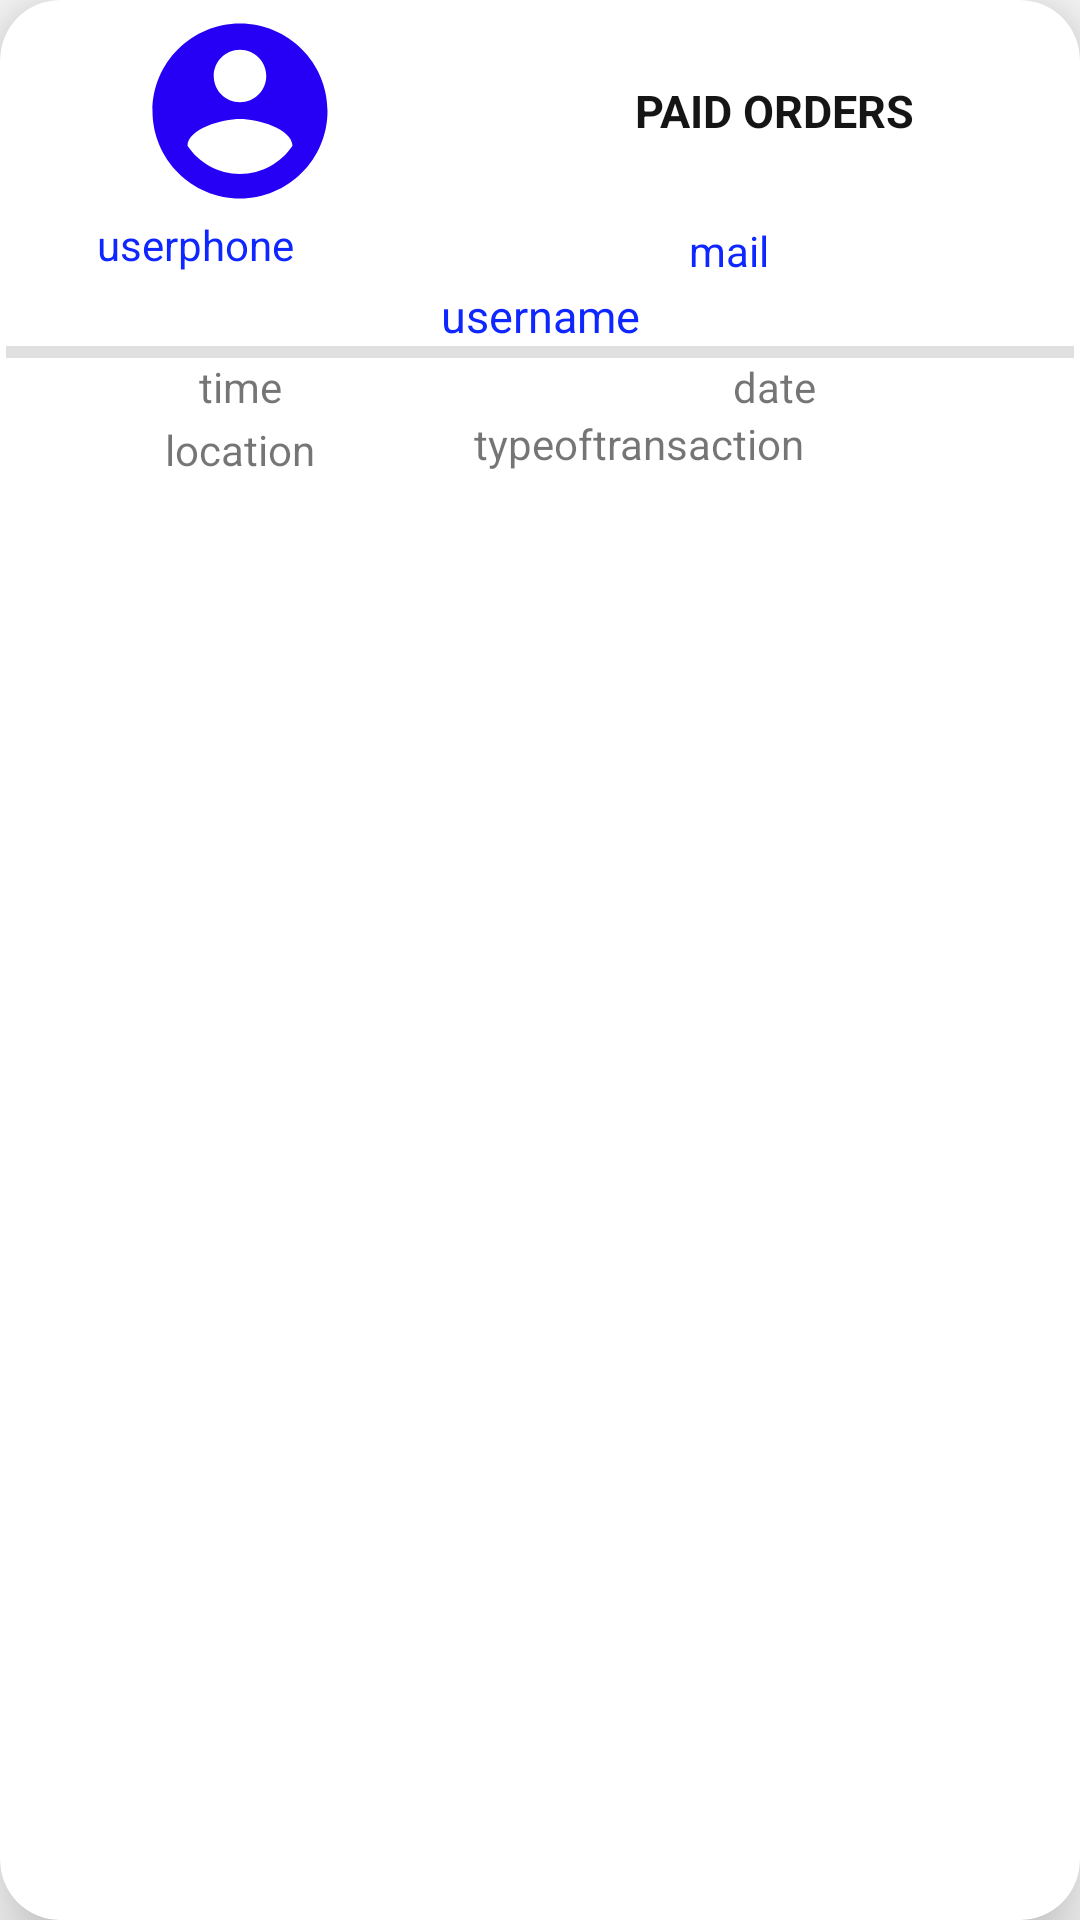

Point at icon controls on the screen. Image size 1080px×1920px, points as (x,y).
account circle: (240,111)
